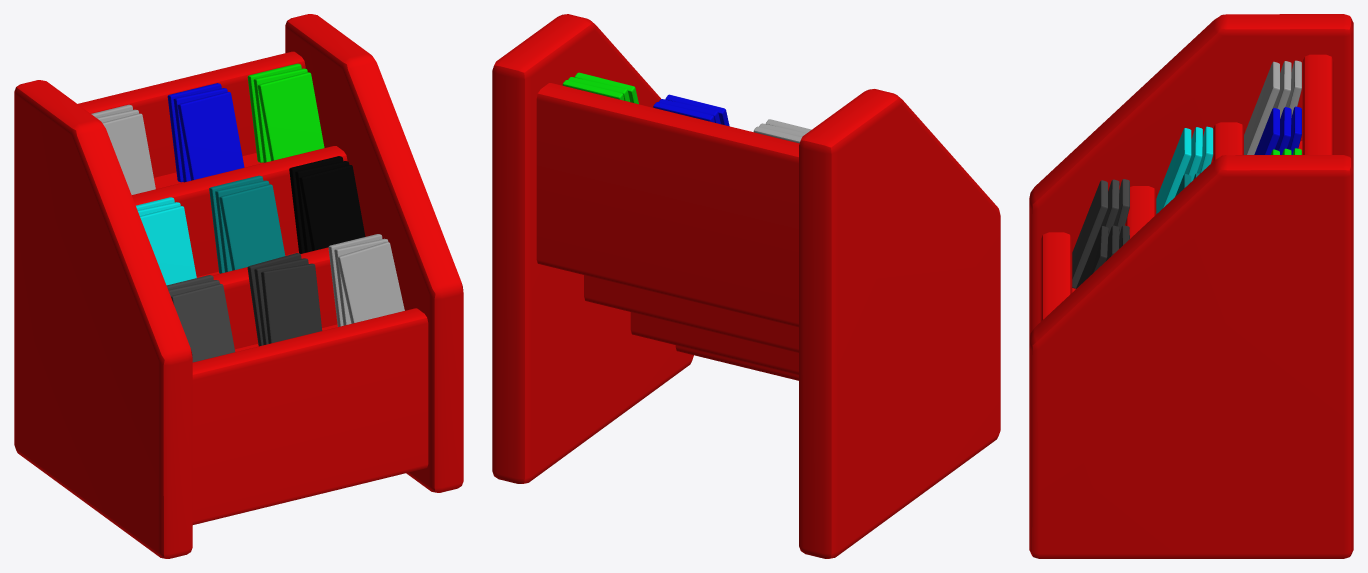
File: SM_magazinestand.fbx
The picture shows the model from 3 angles, left to right: view 1: azimuth 30°, elevation 25°; view 2: azimuth 150°, elevation 25°; view 3: azimuth 270°, elevation 25°; orthographic projection. The views are drawn at different scales.
Visible parts, largest first — view 1: SM_magazinestand; view 2: SM_magazinestand; view 3: SM_magazinestand.
Part boxes in pixels (bbox=[...]): SM_magazinestand: bbox=[14, 14, 463, 558]; SM_magazinestand: bbox=[492, 14, 1000, 558]; SM_magazinestand: bbox=[1029, 14, 1353, 558].
Bounding box in the file's own units: 203 × 236 × 176.
